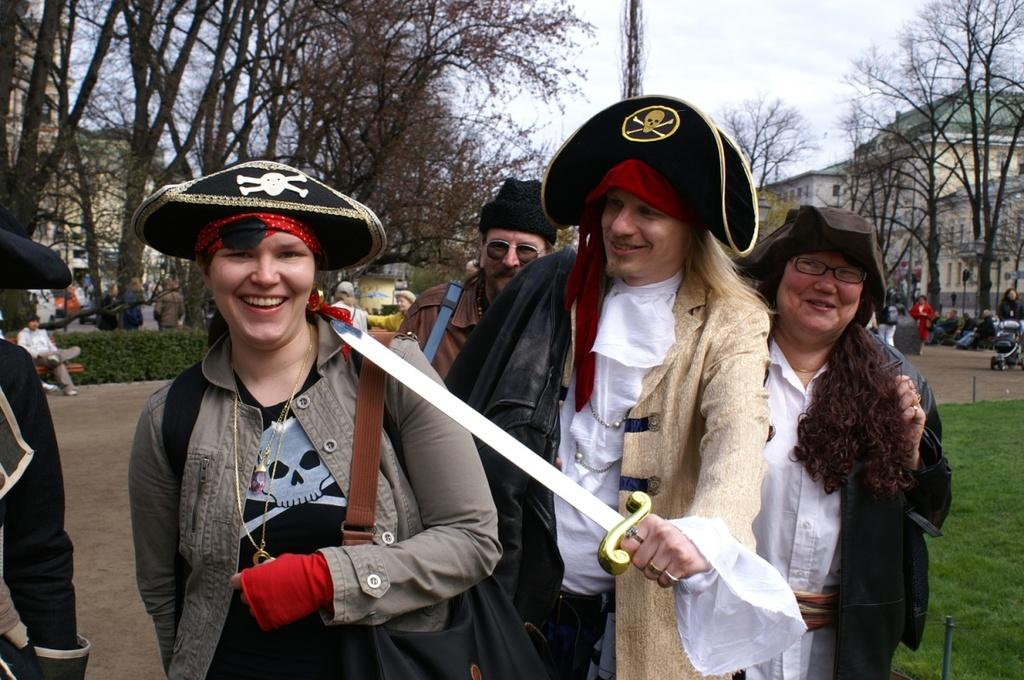Hat: (544, 92, 758, 251), (132, 155, 385, 264), (736, 206, 890, 314), (0, 226, 73, 290), (394, 287, 414, 302), (335, 281, 352, 294)
